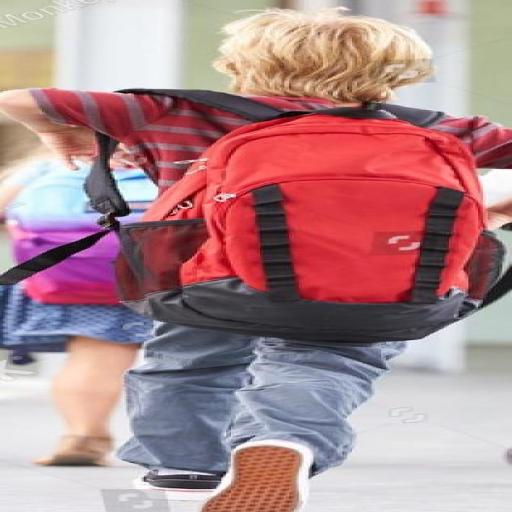person: (122, 323, 405, 511), (0, 239, 151, 465)
